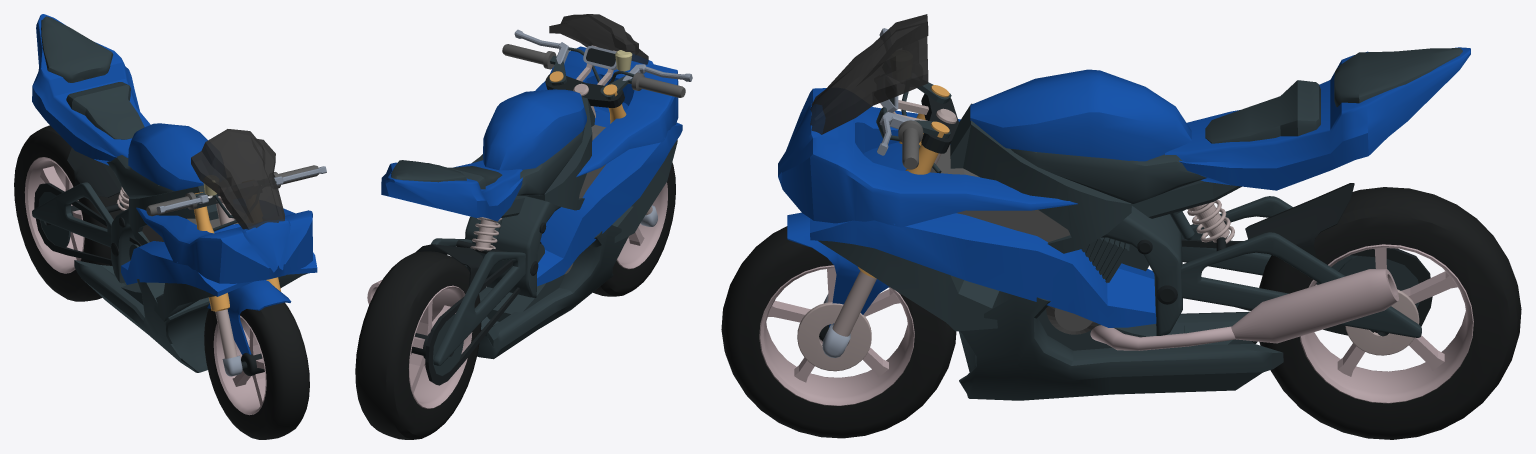
File: yamaha_r6_-sportbike.glb
3 views of the same model, side by side, from view 1: azimuth 30°, elevation 25°; view 2: azimuth 150°, elevation 25°; view 3: azimuth 270°, elevation 25° (orthographic). The views are drawn at different scales.
Visible parts, largest first — view 1: Cube.012_21, Cylinder.022_61, Cube.014_23, Cube.011_20, Cube_4, Cylinder.002_15, Cube.003_7, Cube.010_19, Cube.001_5, Cube.002_6, Cube.009_17, Cylinder.016_50 (+18 smaller); view 2: Cylinder.002_15, Cube.010_19, Cube.003_7, Cube.012_21, Cube.011_20, Cube_4, Cube.007_11, Cube.009_17, Cube.014_23, Cube.006_10, Cylinder.022_61, Cylinder.016_50 (+21 smaller); view 3: Cylinder.002_15, Cube.011_20, Cube.010_19, Cylinder.022_61, Cube.012_21, Cube.003_7, Cube_4, Cube.006_10, Cube.014_23, Cylinder.031_82, Cube.008_14, Cylinder.016_50 (+24 smaller).
Boxes of the visible parts, box(x1,y1,x2,y2) form: Cube.012_21: box(136, 207, 312, 283); Cylinder.022_61: box(204, 302, 309, 439); Cube.014_23: box(191, 129, 284, 229); Cube.011_20: box(74, 260, 209, 372); Cube_4: box(32, 14, 150, 165); Cylinder.002_15: box(14, 125, 123, 301); Cube.003_7: box(128, 123, 207, 191); Cube.010_19: box(121, 224, 317, 296); Cube.001_5: box(41, 16, 113, 82); Cube.002_6: box(66, 82, 144, 139); Cube.009_17: box(32, 182, 113, 247); Cylinder.016_50: box(24, 157, 84, 273); Cylinder.002_15: box(355, 251, 481, 439); Cube.010_19: box(537, 102, 682, 286); Cube.003_7: box(483, 89, 586, 170); Cube.012_21: box(535, 46, 678, 177); Cube.011_20: box(477, 225, 628, 359); Cube_4: box(381, 160, 522, 221); Cube.007_11: box(465, 196, 560, 298); Cube.009_17: box(433, 251, 525, 365); Cube.014_23: box(549, 14, 648, 64); Cube.006_10: box(525, 97, 594, 210); Cylinder.022_61: box(593, 162, 675, 296); Cylinder.016_50: box(409, 285, 472, 408); Cylinder.002_15: box(1259, 187, 1521, 439); Cube.011_20: box(959, 291, 1283, 400); Cube.010_19: box(810, 142, 1156, 327); Cylinder.022_61: box(721, 226, 956, 438); Cube.012_21: box(778, 88, 1077, 227); Cube.003_7: box(970, 69, 1191, 161); Cube_4: box(1165, 47, 1470, 190); Cube.006_10: box(950, 103, 1131, 253); Cube.014_23: box(810, 14, 928, 134); Cylinder.031_82: box(1231, 269, 1398, 343); Cube.008_14: box(1181, 232, 1421, 337); Cylinder.016_50: box(1300, 244, 1473, 403).
Size of what is drawn, in the model's own units: 0.9341 by 1.49 by 2.61.
